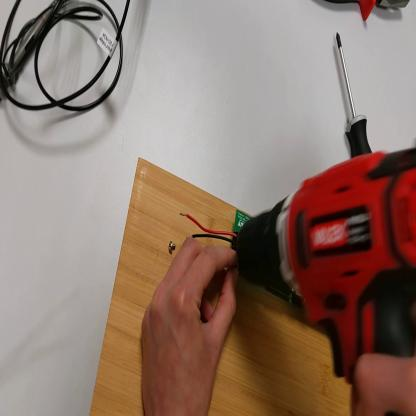electric screwdriver: (234, 136, 416, 387)
hand: (140, 232, 238, 415), (353, 349, 416, 416)
oscilloscope probe tip: (1, 3, 59, 102)
pliers: (314, 2, 410, 20)
screwdriver-: (337, 33, 373, 157)
working area: (91, 160, 348, 416)
